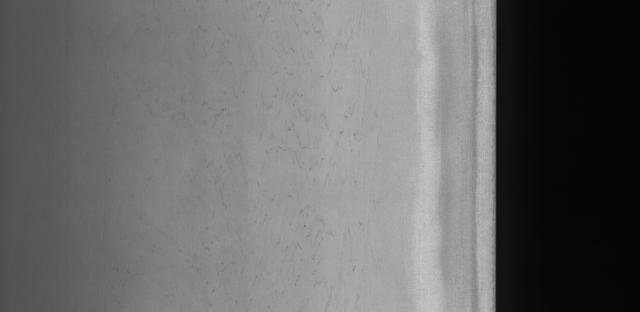silk_spot: (187, 80, 384, 306)
